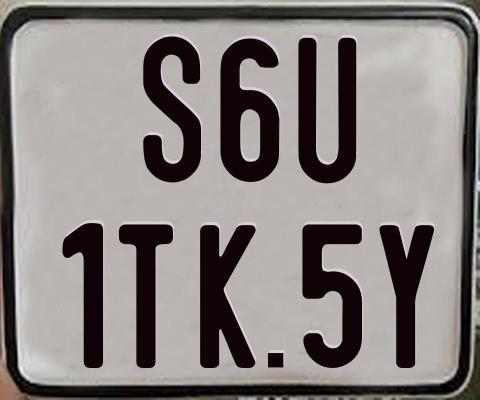1: (62, 221, 106, 372)
5: (302, 222, 364, 370)
6: (217, 37, 279, 181)
K: (198, 223, 257, 371)
S: (141, 35, 200, 187)
T: (116, 222, 173, 372)
U: (296, 38, 357, 185)
Y: (377, 223, 436, 368)
